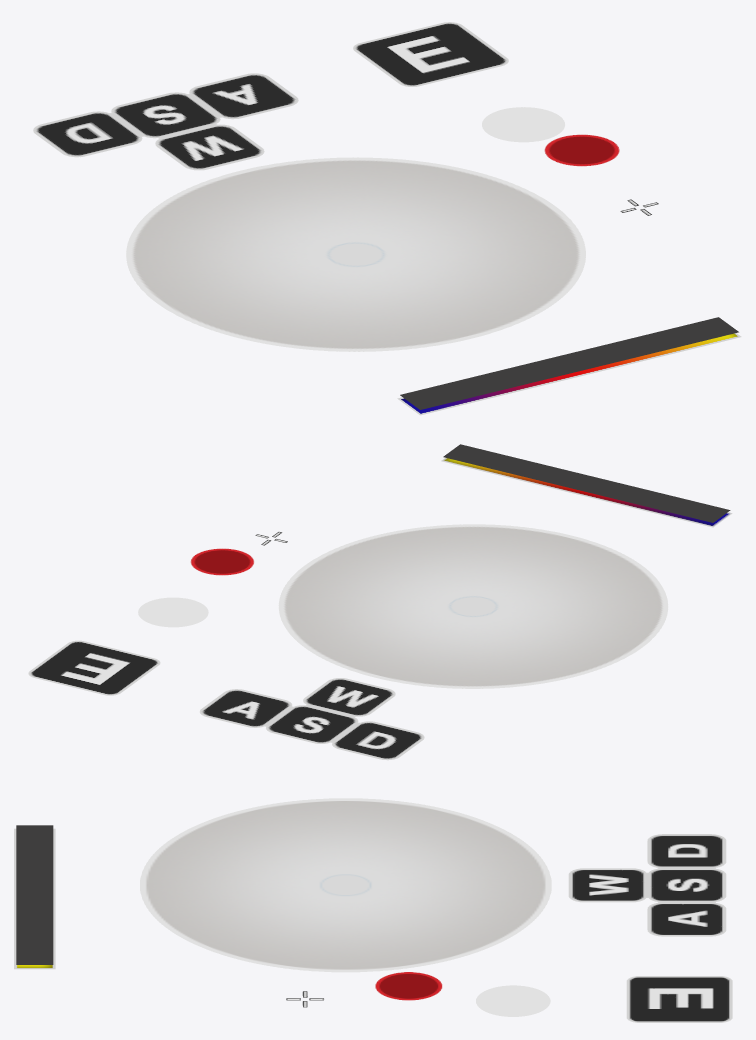
Rendered from desktop_parts.fbx.
The picture shows the model from 3 angles, top to bottom: view 1: azimuth 30°, elevation 25°; view 2: azimuth 150°, elevation 25°; view 3: azimuth 270°, elevation 25°; orthographic projection. The views are drawn at different scales.
Visible parts, largest first — view 1: Desktop Ball, Desktop Strength Overlay, Button E, Desktop Hit Lwr, Desktop Strength Base, Desktop Hit; view 2: Desktop Ball, Desktop Strength Overlay, Button E, Desktop Hit Lwr, Desktop Strength Base, Desktop Hit; view 3: Desktop Ball, Desktop Strength Overlay, Button E, Desktop Hit Lwr, Desktop Hit, Desktop Strength Base.
Part boxes in pixels (x1,y1,x2,y2): Desktop Ball: [33, 73, 585, 351]; Desktop Strength Overlay: [400, 317, 738, 409]; Button E: [353, 22, 508, 86]; Desktop Hit Lwr: [482, 107, 564, 142]; Desktop Strength Base: [397, 333, 741, 415]; Desktop Hit: [544, 134, 619, 166]; Desktop Ball: [199, 524, 668, 760]; Desktop Strength Overlay: [443, 444, 730, 522]; Button E: [28, 640, 160, 695]; Desktop Hit Lwr: [138, 597, 208, 627]; Desktop Strength Base: [441, 457, 732, 527]; Desktop Hit: [190, 548, 254, 575]; Desktop Ball: [140, 798, 726, 972]; Desktop Strength Overlay: [16, 825, 53, 964]; Button E: [626, 976, 732, 1022]; Desktop Hit Lwr: [476, 985, 550, 1016]; Desktop Hit: [375, 972, 442, 1000]; Desktop Strength Base: [14, 828, 55, 969].
Bounding box in the file's own units: 260 × 8 × 350.
